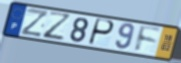8: (70, 17, 90, 43)
9: (114, 23, 135, 52)
F: (134, 24, 162, 54)
P: (86, 18, 116, 47)
Z: (41, 10, 73, 42), (19, 7, 50, 38)
